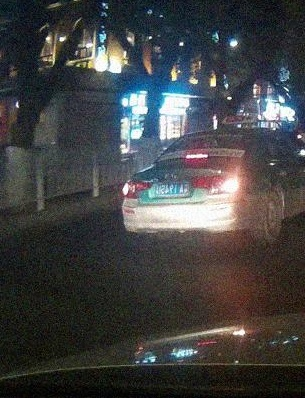L_light: (122, 180, 153, 198)
R_light: (194, 174, 238, 194)
T_light: (185, 154, 208, 159)
night-right: (121, 127, 268, 249)
